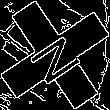N_NE: (23, 24, 87, 86)
